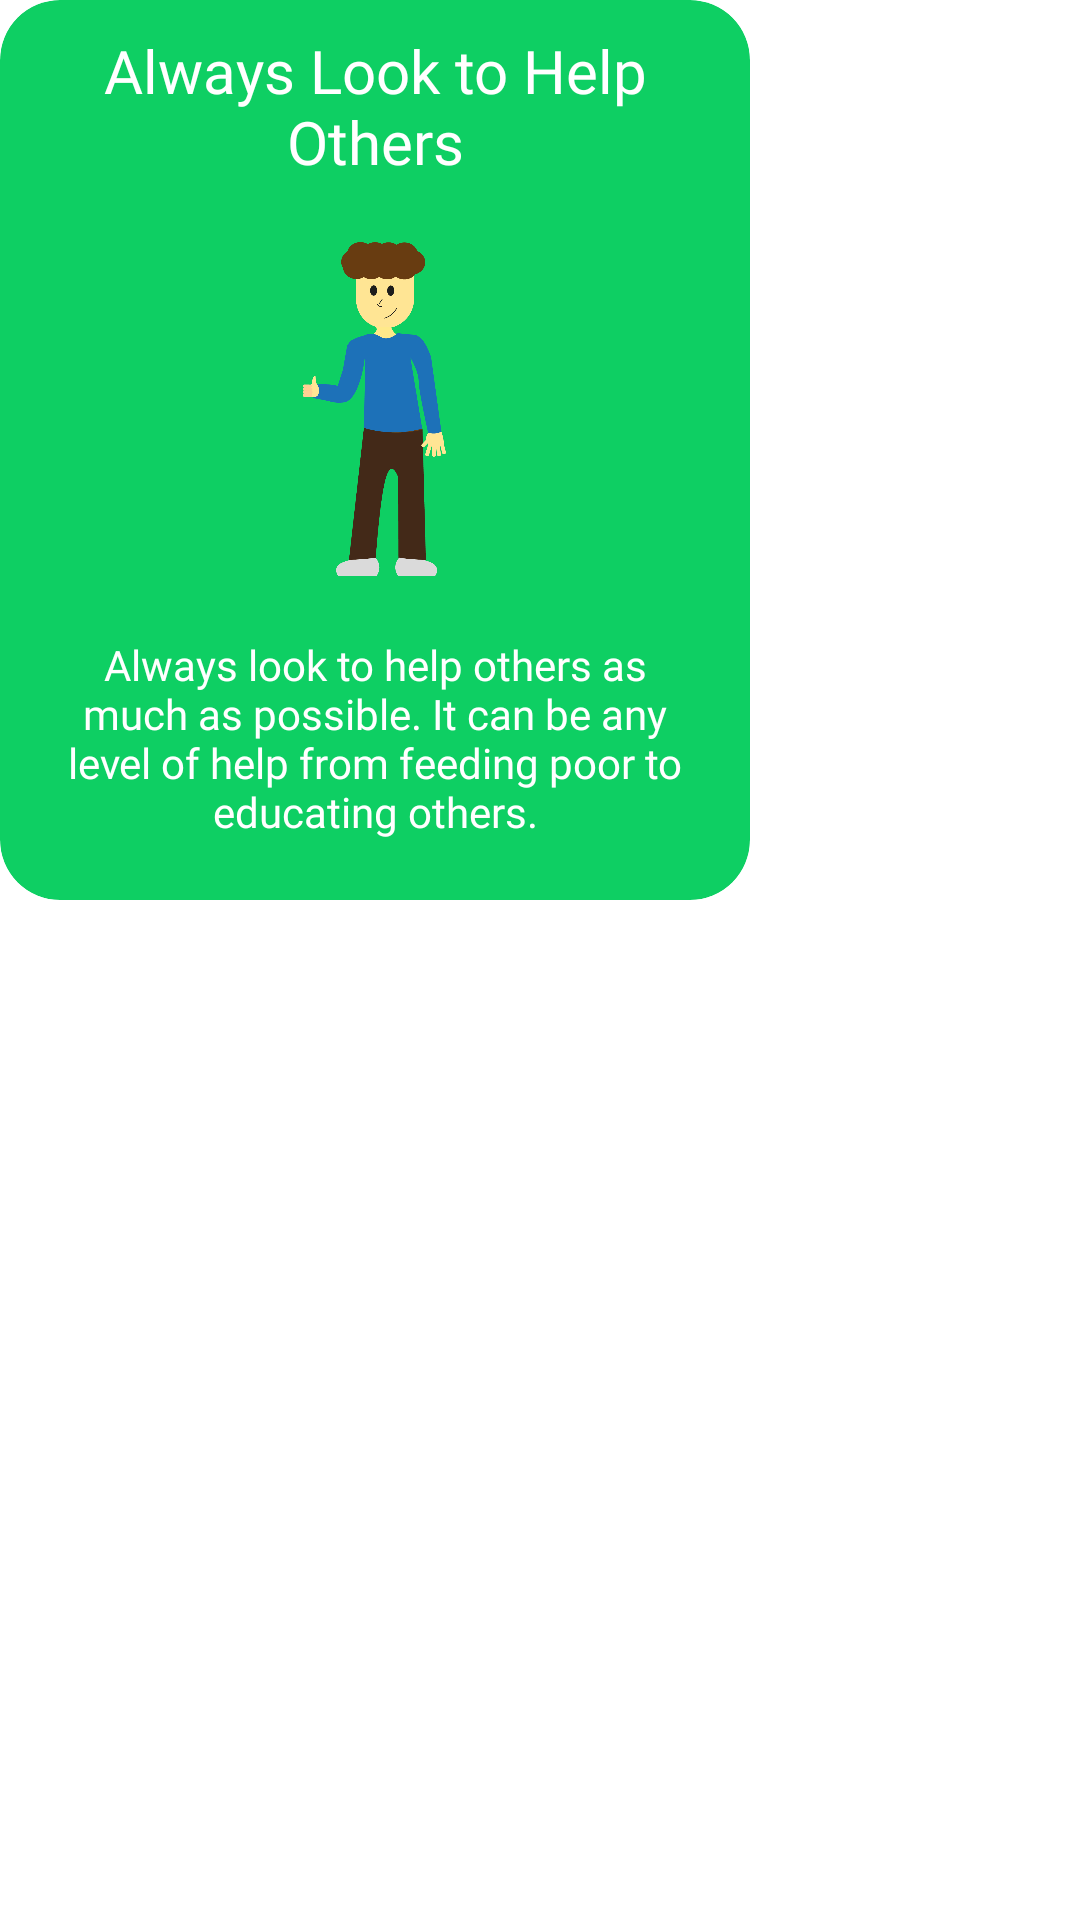

Where icons sit on this 1080*1920 app screen, as region(x1, y1, x2, y2):
boy full: region(303, 242, 446, 576)
